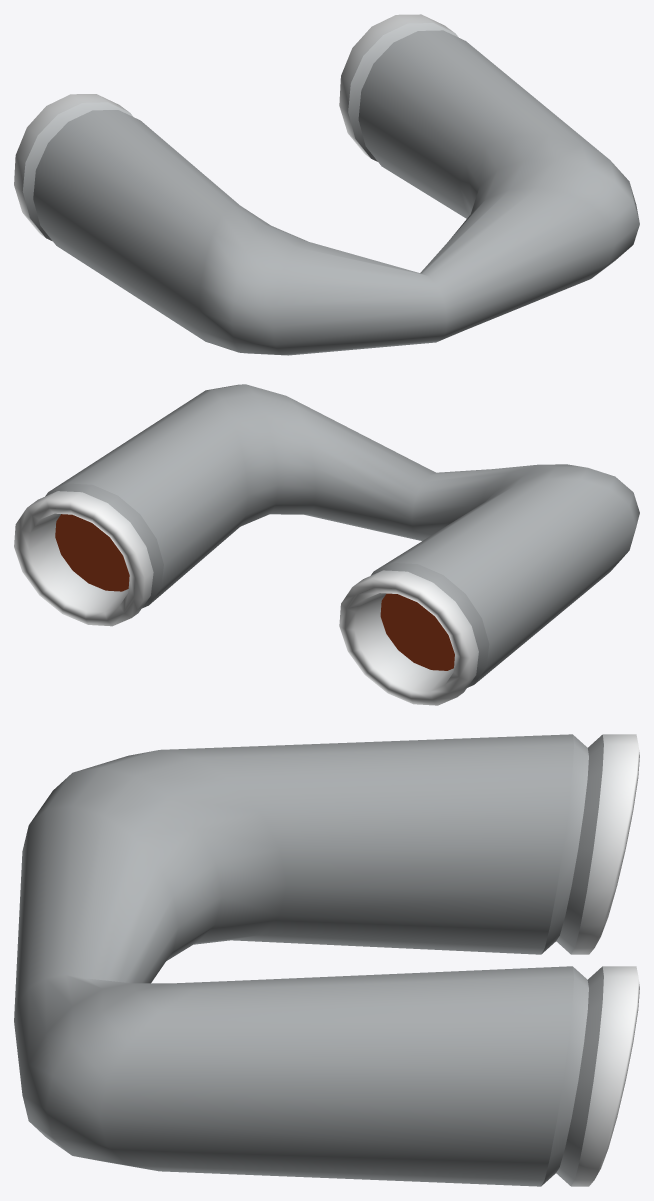
File: Car_02_Pipe_Cool.fbx
3 views of the same model, one above another, from view 1: azimuth 30°, elevation 25°; view 2: azimuth 150°, elevation 25°; view 3: azimuth 270°, elevation 25° (orthographic). The views are drawn at different scales.
Parts seen in each view (by area): view 1: Car_02_Pipe_Cool; view 2: Car_02_Pipe_Cool; view 3: Car_02_Pipe_Cool.
Part boxes in pixels (x1,y1,x2,y2): Car_02_Pipe_Cool: (14, 14, 639, 355); Car_02_Pipe_Cool: (14, 384, 639, 705); Car_02_Pipe_Cool: (14, 734, 639, 1186).
Bounding box in the file's own units: 98.15 × 79.85 × 29.17.
